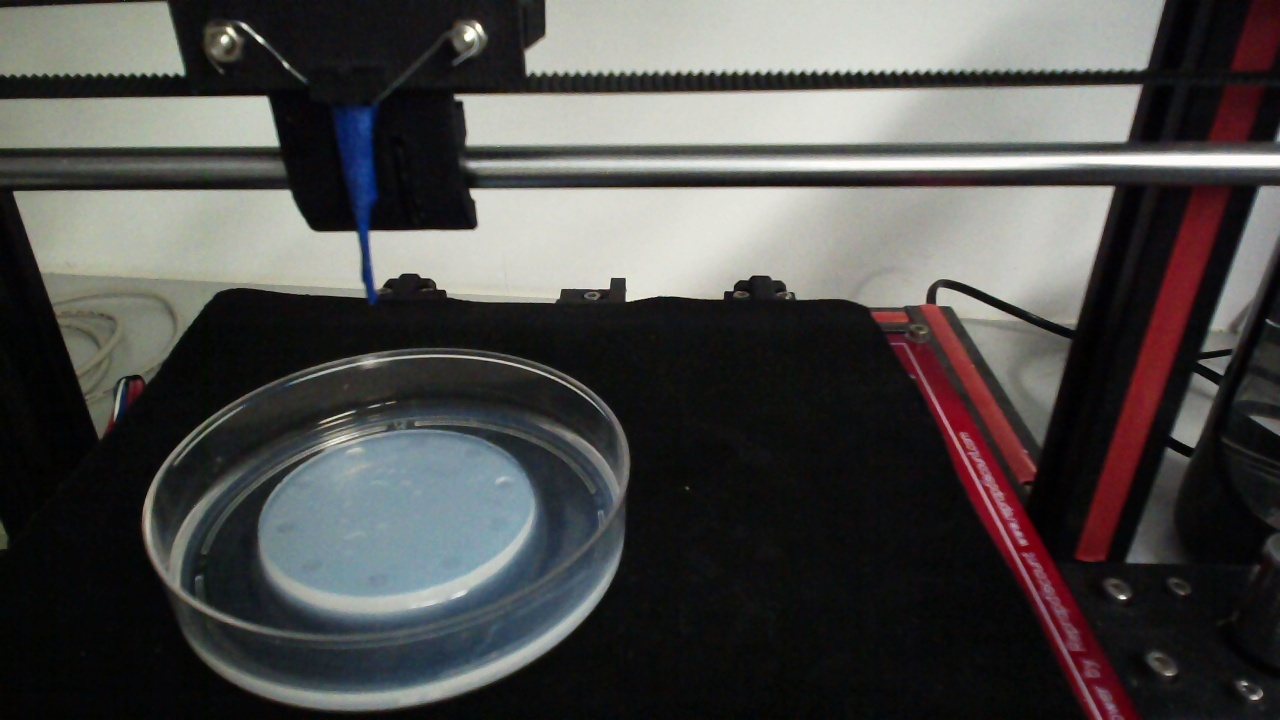groove: (365, 570, 389, 587), (343, 444, 365, 462), (439, 552, 461, 570), (486, 516, 509, 533), (406, 434, 429, 450), (273, 519, 297, 534), (295, 476, 317, 491), (300, 559, 323, 573), (494, 475, 513, 491), (461, 447, 483, 460)
needle: (336, 110, 378, 305)
